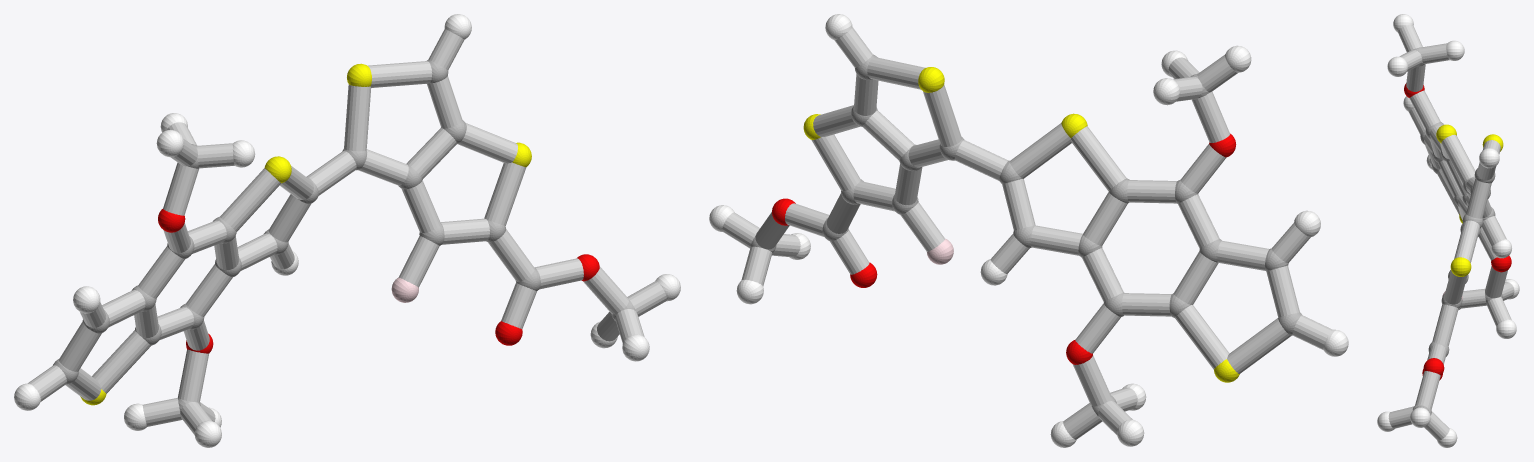
Rendered from color.glb.
3 views of the same model, side by side, from view 1: azimuth 30°, elevation 25°; view 2: azimuth 150°, elevation 25°; view 3: azimuth 270°, elevation 25° (orthographic). The views are drawn at different scales.
Visible parts, largest first — view 1: grp15205, grp8689, grp1, grp13395, grp7241; view 2: grp15205, grp8689, grp1, grp7241, grp13395; view 3: grp15205, grp8689, grp1, grp7241, grp13395.
Part boxes in pixels (left/top/right/bottom): grp15205: left=27, top=29, right=666, bottom=434; grp8689: left=14, top=14, right=680, bottom=447; grp1: left=53, top=59, right=635, bottom=419; grp13395: left=158, top=209, right=599, bottom=353; grp7241: left=80, top=63, right=531, bottom=405; grp15205: left=722, top=27, right=1332, bottom=439; grp8689: left=709, top=14, right=1348, bottom=447; grp1: left=750, top=54, right=1302, bottom=416; grp7241: left=803, top=67, right=1239, bottom=382; grp13395: left=772, top=133, right=1236, bottom=364; grp15205: left=1388, top=24, right=1514, bottom=440; grp8689: left=1377, top=14, right=1519, bottom=447; grp1: left=1412, top=47, right=1502, bottom=415; grp7241: left=1436, top=124, right=1503, bottom=276; grp13395: left=1404, top=83, right=1511, bottom=380.
Size of the model in its own units: 16.45 by 9.13 by 4.15.
